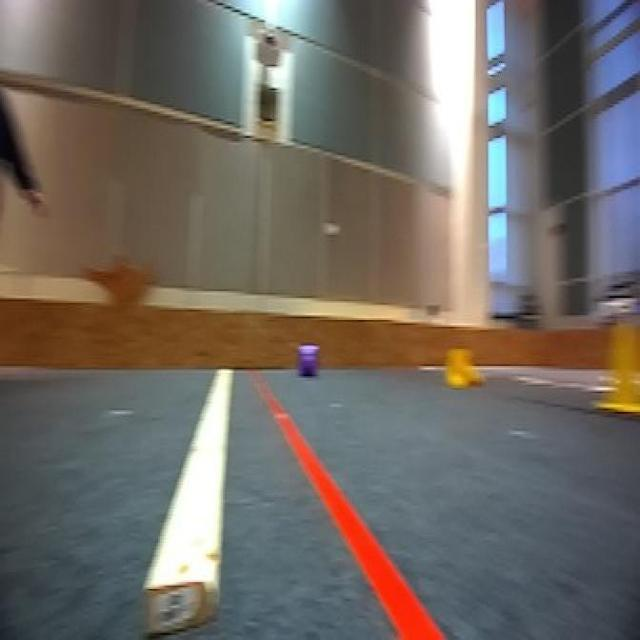frc_cone: (595, 325, 639, 419), (441, 344, 489, 393)
frc_cube: (297, 342, 320, 378)
